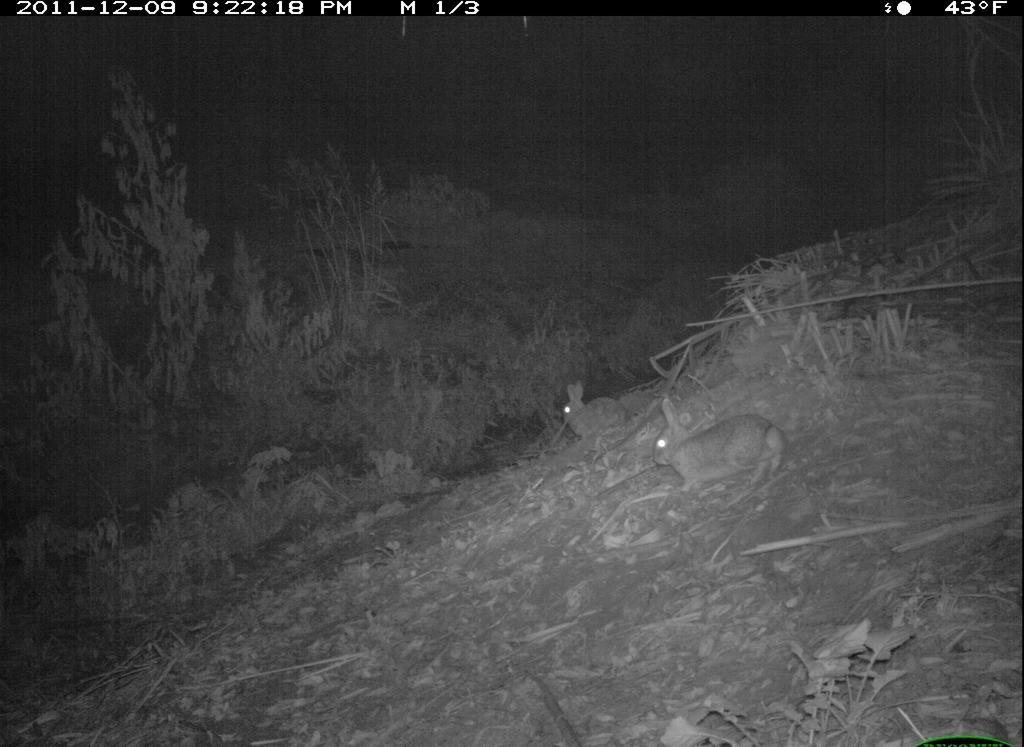rabbit: (649, 390, 788, 504), (546, 370, 642, 452)
